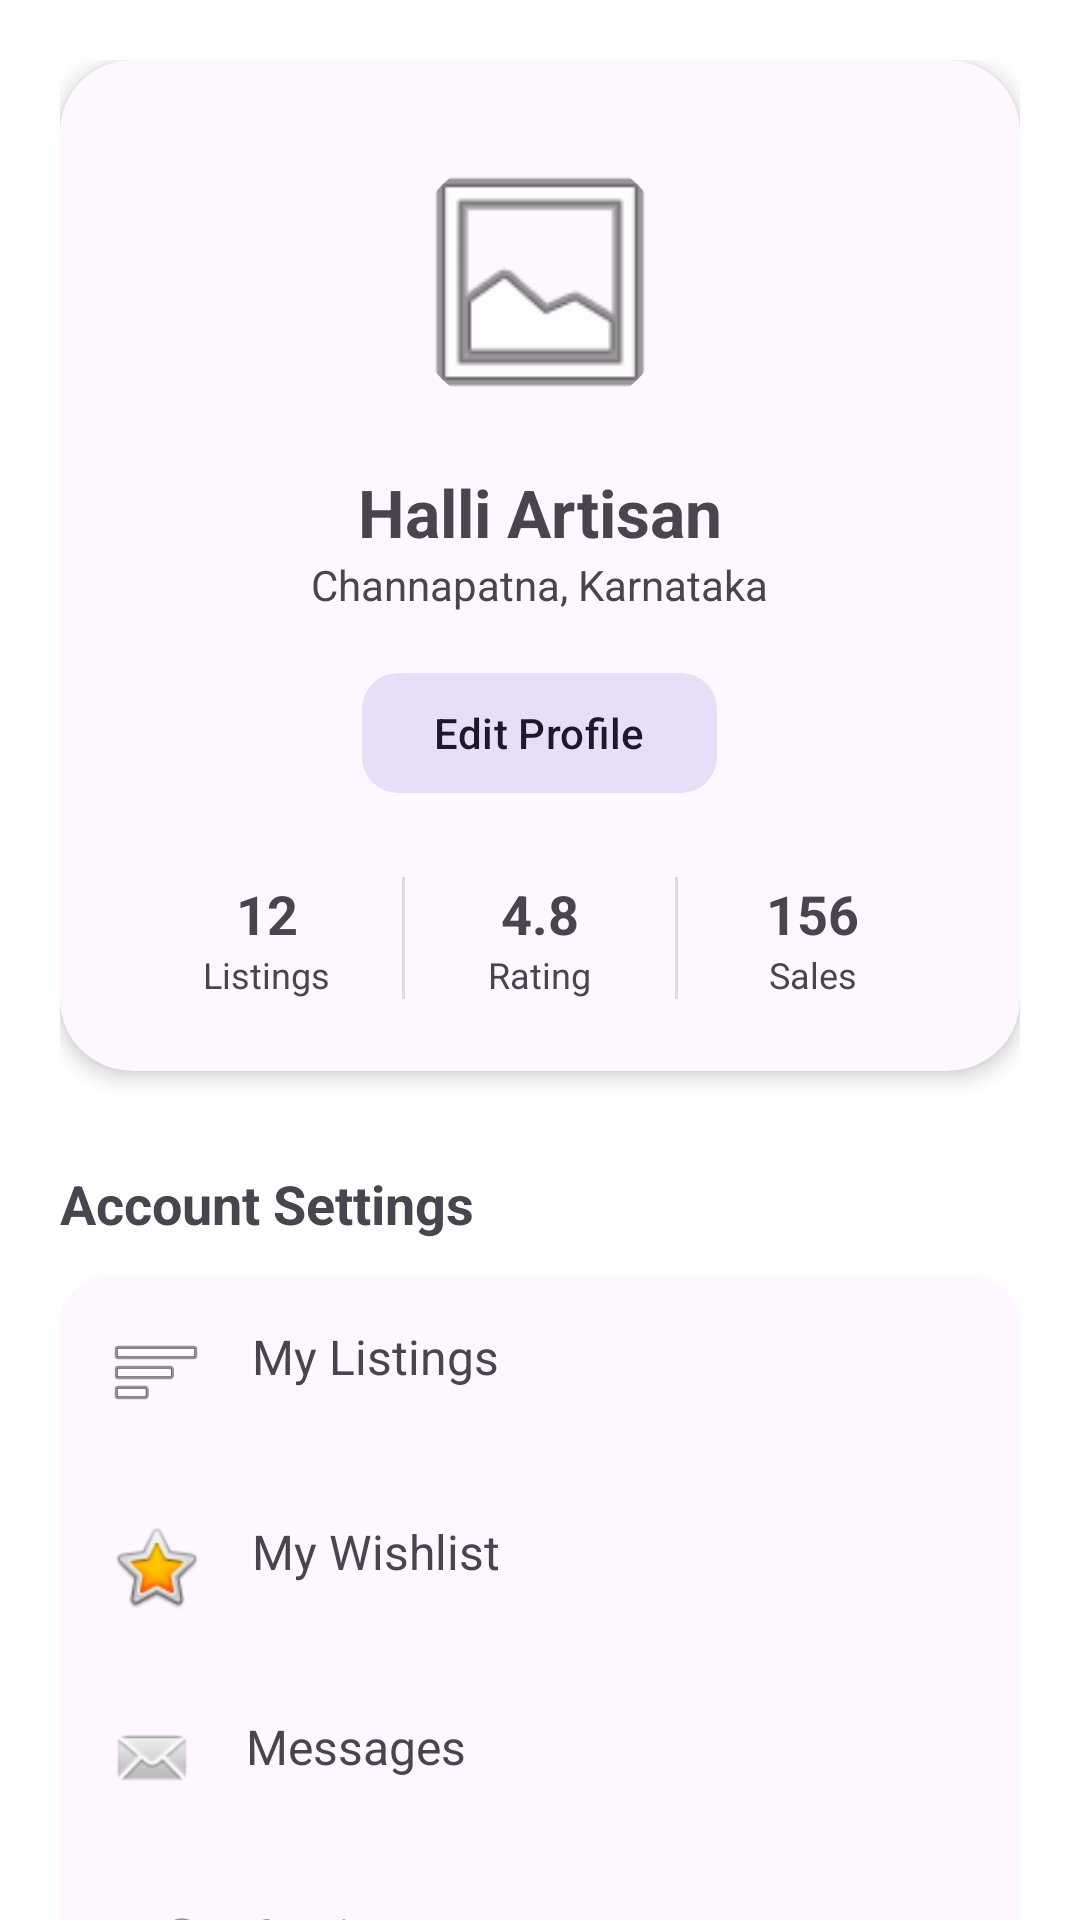

Named icons in this screenshot (1080x1920) and their centers, (x=x, y=y):
gallery: (x=540, y=282)
